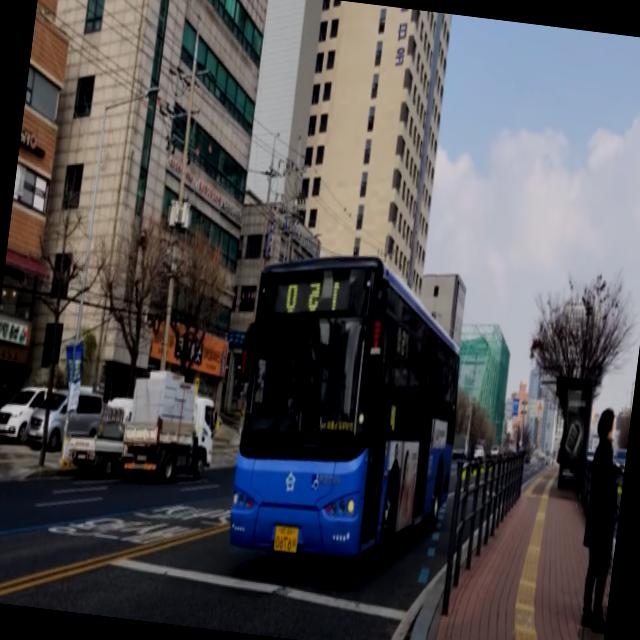bus-number: (284, 274, 341, 320)
